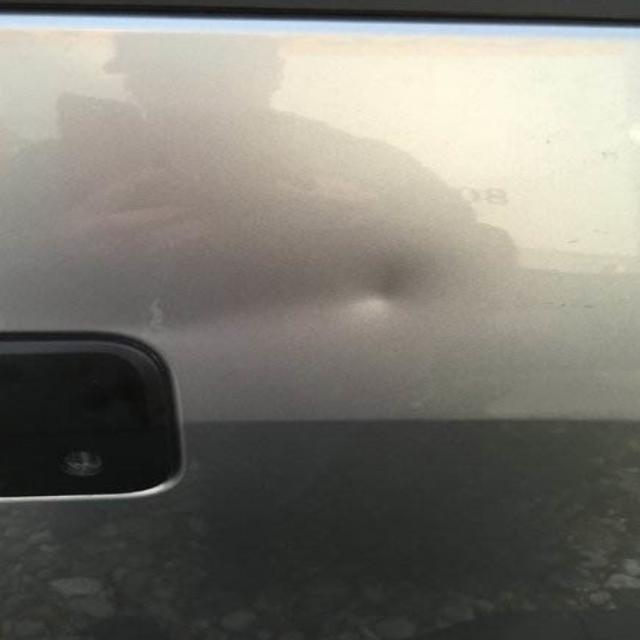dents: (339, 212, 447, 346)
